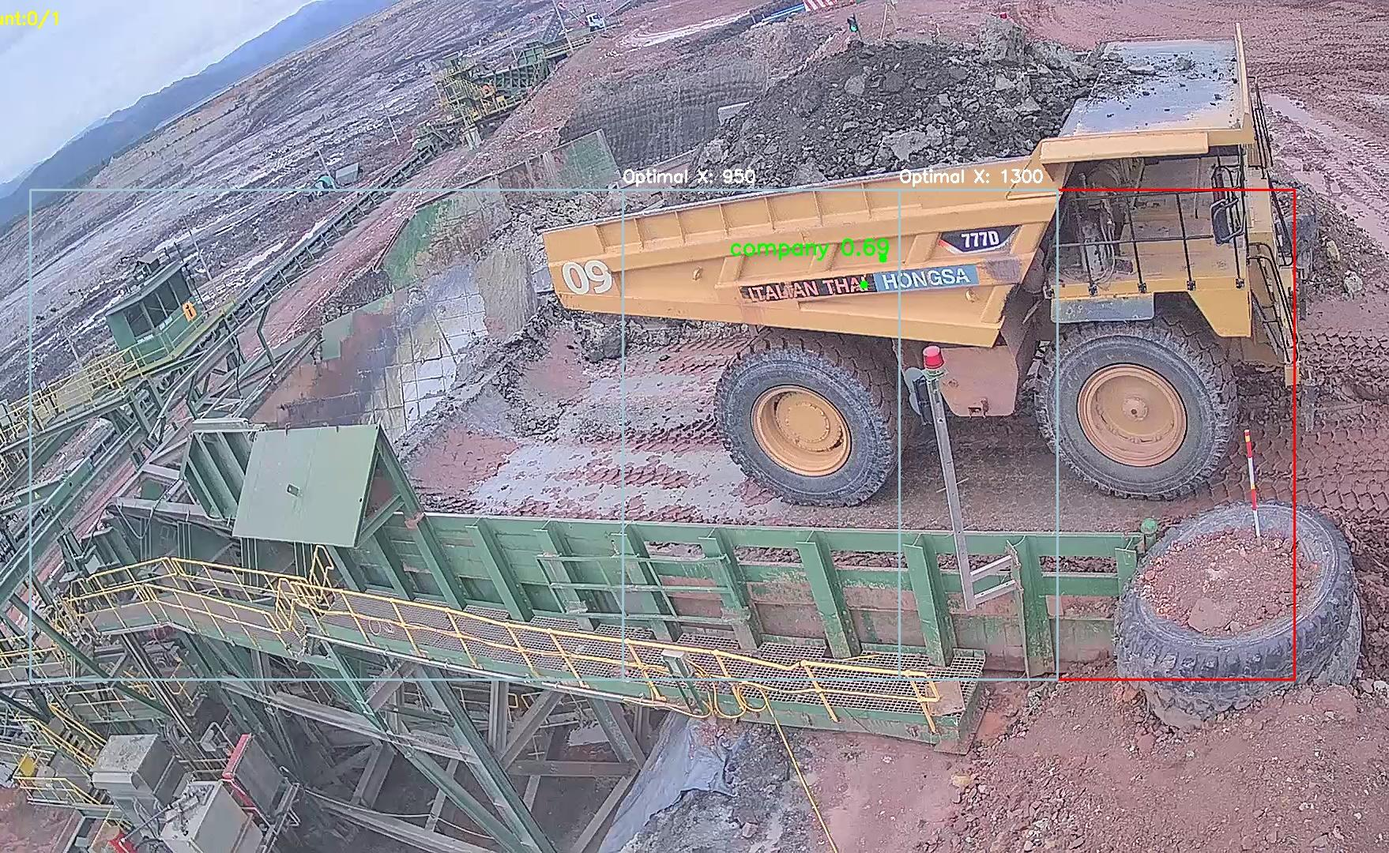company: (720, 252, 989, 315)
full_load: (708, 34, 1069, 197)
mining_truck: (527, 17, 1323, 491)
tail_number: (558, 252, 616, 302)
truck_size: (935, 213, 1020, 257)
